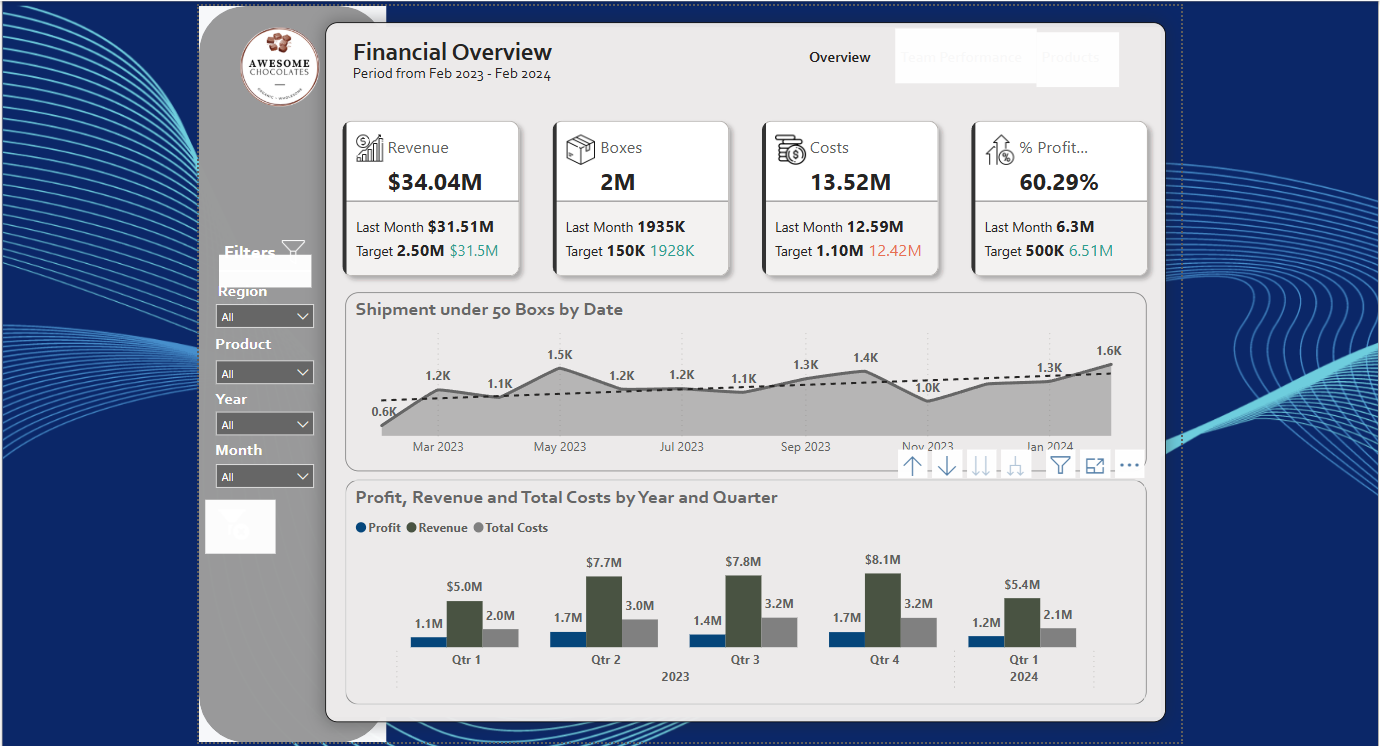

What the dashboard file says about the page in this screenshot:
{"tool":"powerbi","page":{"name":"Overview","canvas":[960,720],"ordinal":0},"visuals":[{"type":"shape","box":[0,0,183,720.6],"z":0},{"type":"shape","box":[123.1,16.2,822.6,684.9],"z":1000},{"type":"image","box":[35.6,16.2,87.4,87.4],"z":2000},{"type":"textbox","box":[19.4,223.5,72.9,35.6],"z":3000},{"type":"image","box":[74.5,215.4,35.6,51.8],"z":4000},{"type":"shape","box":[19.4,242.9,90.7,32.4],"z":5000},{"type":"slicer","fields":{"Values":["locations.Region"]},"box":[6.5,281.7,116.6,51.8],"z":6000},{"type":"slicer","fields":{"Values":["products.Product"]},"box":[6.5,336.8,116.6,50.2],"z":7000},{"type":"slicer","fields":{"Values":["calendar.Date.Variation.Date Hierarchy.Year"]},"box":[6.5,387,116.6,50.2],"z":8000},{"type":"textbox","box":[11.3,369.2,72.9,35.6],"z":9000},{"type":"textbox","box":[11.3,315.7,72.9,35.6],"z":10000},{"type":"textbox","box":[13,263.9,72.9,35.6],"z":11000},{"type":"textbox","box":[145.7,24.3,218.6,51.8],"z":12000},{"type":"textbox","box":[145.7,51.8,242.9,51.8],"z":13000},{"type":"cardVisual","fields":{"Data":["calendar.Revenue","calendar.#Boxes","calendar.Total Costs","calendar.% Profit Margins"]},"box":[123.1,95.5,822.6,186.2],"z":14000},{"type":"slicer","fields":{"Values":["calendar.Date.Variation.Date Hierarchy.Month"]},"box":[6.5,437.2,116.6,51.8],"z":15000},{"type":"textbox","box":[11.3,419.4,72.9,35.6],"z":16000},{"type":"lineChart","title":"Shipment under 50 Boxs by Date","fields":{"Category":["calendar.Date.Variation.Date Hierarchy.Year","calendar.Date.Variation.Date Hierarchy.Quarter","calendar.Date.Variation.Date Hierarchy.Month"],"Y":["Comparsions.Shipment under 50 Boxs"]},"box":[142.5,280.1,783.7,174.9],"z":17000},{"type":"clusteredColumnChart","fields":{"Category":["calendar.Date.Variation.Date Hierarchy.Year","calendar.Date.Variation.Date Hierarchy.Quarter"],"Y":["calendar.Profit","calendar.Revenue","calendar.Total Costs"]},"box":[142.5,463.1,783.7,220.2],"z":18000},{"type":"image","box":[8.6,483,47.7,44],"z":19000},{"type":"actionButton","box":[6.1,483,68.5,52.6],"z":20000},{"type":"textbox","box":[591.9,35.5,80.7,33],"z":21000},{"type":"textbox","box":[681.1,35.5,138.2,33],"z":22000},{"type":"actionButton","box":[681.1,22,138.2,53.8],"z":23000},{"type":"textbox","box":[819.3,35.5,80.7,33],"z":24000},{"type":"actionButton","box":[819.3,25.9,81,53.4],"z":25000}]}

Visuals, with their boxes on the page's 960x720 design canvas (x1, y1, x2, y2). These are canvas units, not pixel positions in the 1380x746 screenshot, which may show the page scaled, cropped or inside an application window:
shape: 0/0/183/721
shape: 123/16/946/701
image: 36/16/123/104
textbox: 19/224/92/259
image: 74/215/110/267
shape: 19/243/110/275
slicer - locations.Region: 6/282/123/334
slicer - products.Product: 6/337/123/387
slicer - calendar.Date.Variation.Date Hierarchy.Year: 6/387/123/437
textbox: 11/369/84/405
textbox: 11/316/84/351
textbox: 13/264/86/300
textbox: 146/24/364/76
textbox: 146/52/389/104
cardVisual - calendar.Revenue x calendar.#Boxes: 123/96/946/282
slicer - calendar.Date.Variation.Date Hierarchy.Month: 6/437/123/489
textbox: 11/419/84/455
"Shipment under 50 Boxs by Date" lineChart: 142/280/926/455
clusteredColumnChart - calendar.Date.Variation.Date Hierarchy.Year x calendar.Date.Variation.Date Hierarchy.Quarter: 142/463/926/683
image: 9/483/56/527
actionButton: 6/483/75/536
textbox: 592/36/673/68
textbox: 681/36/819/68
actionButton: 681/22/819/76
textbox: 819/36/900/68
actionButton: 819/26/900/79
